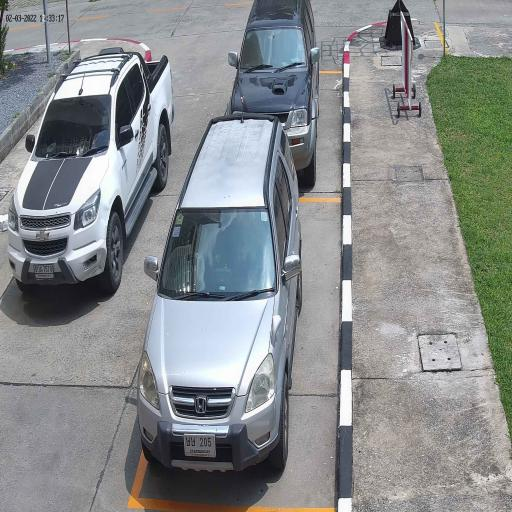car: (136, 113, 302, 475), (8, 48, 174, 294), (230, 0, 320, 187)
